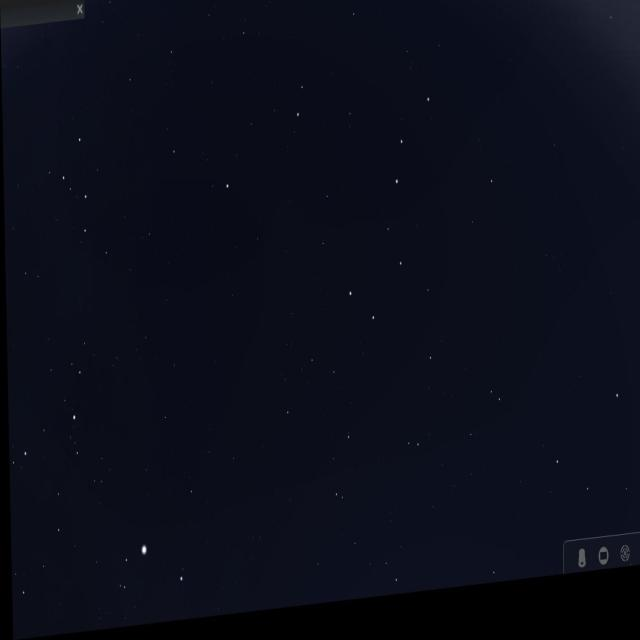cassiopeia: (53, 96, 129, 266)
ursa_major: (334, 86, 434, 344)
